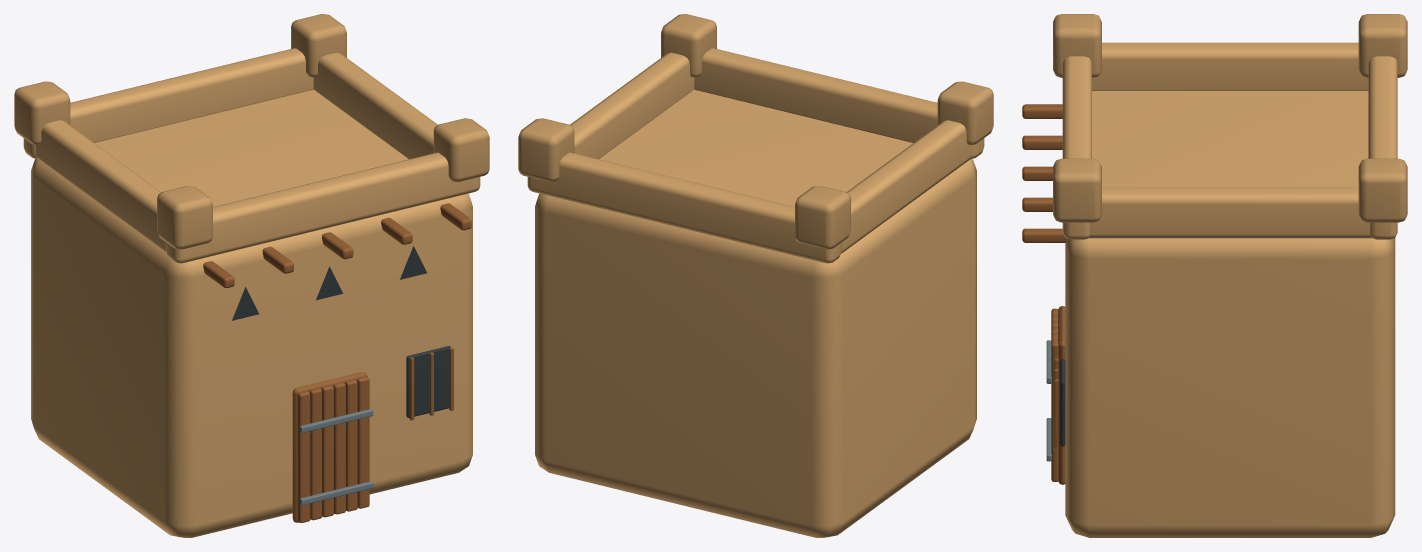
File: NJD-13.glb
3 views of the same model, side by side, from view 1: azimuth 30°, elevation 25°; view 2: azimuth 150°, elevation 25°; view 3: azimuth 270°, elevation 25° (orthographic). The views are drawn at different scales.
Visible parts, largest first — view 1: house, parapet edge, parapet edge.001, parapet side, parapet side.001, raised corner, raised corner.002, raised corner.001, window, raised corner.003, door plank, door plank.005 (+7 smaller); view 2: house, parapet edge.001, parapet edge, parapet side, parapet side.001, raised corner.001, raised corner.003, raised corner, raised corner.002; view 3: house, parapet side.001, parapet side, parapet edge.001, parapet edge, raised corner.003, raised corner.002, raised corner.001, raised corner, door, door plank.005, rafter end.004 (+5 smaller).
Boxes of the visible parts, bbox=[...] form: house: bbox=[31, 89, 472, 537]; parapet edge: bbox=[166, 152, 480, 263]; parapet edge.001: bbox=[23, 48, 313, 158]; parapet side: bbox=[36, 120, 166, 253]; parapet side.001: bbox=[313, 52, 437, 159]; raised corner: bbox=[157, 186, 212, 249]; raised corner.002: bbox=[433, 118, 489, 181]; raised corner.001: bbox=[14, 81, 70, 144]; window: bbox=[406, 346, 450, 417]; raised corner.003: bbox=[291, 14, 346, 77]; door plank: bbox=[297, 391, 310, 522]; door plank.005: bbox=[357, 376, 369, 508]; house: bbox=[535, 89, 976, 537]; parapet edge.001: bbox=[527, 152, 841, 263]; parapet edge: bbox=[694, 48, 984, 158]; parapet side: bbox=[841, 120, 971, 253]; parapet side.001: bbox=[570, 52, 694, 159]; raised corner.001: bbox=[795, 186, 850, 249]; raised corner.003: bbox=[518, 118, 574, 181]; raised corner: bbox=[937, 81, 993, 144]; raised corner.002: bbox=[661, 14, 716, 77]; house: bbox=[1065, 91, 1395, 537]; parapet side.001: bbox=[1089, 187, 1371, 238]; parapet side: bbox=[1092, 42, 1368, 90]; parapet edge.001: bbox=[1368, 56, 1397, 239]; parapet edge: bbox=[1062, 56, 1091, 239]; raised corner.003: bbox=[1358, 158, 1407, 222]; raised corner.002: bbox=[1053, 158, 1101, 222]; raised corner.001: bbox=[1358, 14, 1407, 77]; raised corner: bbox=[1053, 14, 1101, 77]; door: bbox=[1058, 306, 1065, 484]; door plank.005: bbox=[1051, 339, 1058, 481]; rafter end.004: bbox=[1022, 228, 1067, 242].
Bounding box in the file's own units: 3.2 × 3.38 × 3.15.
